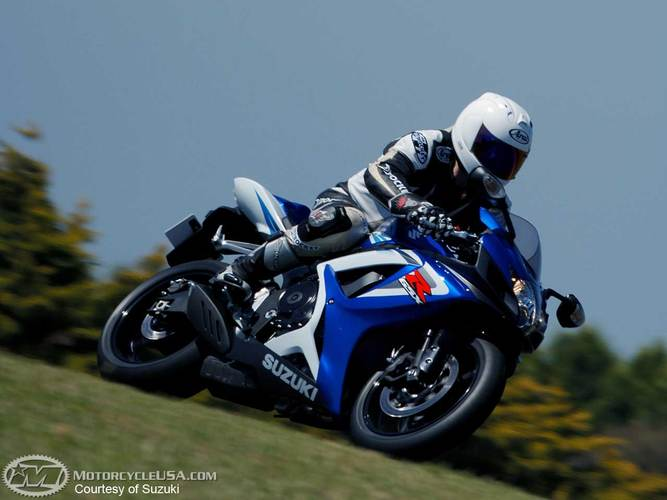摩托车: (91, 198, 630, 445)
